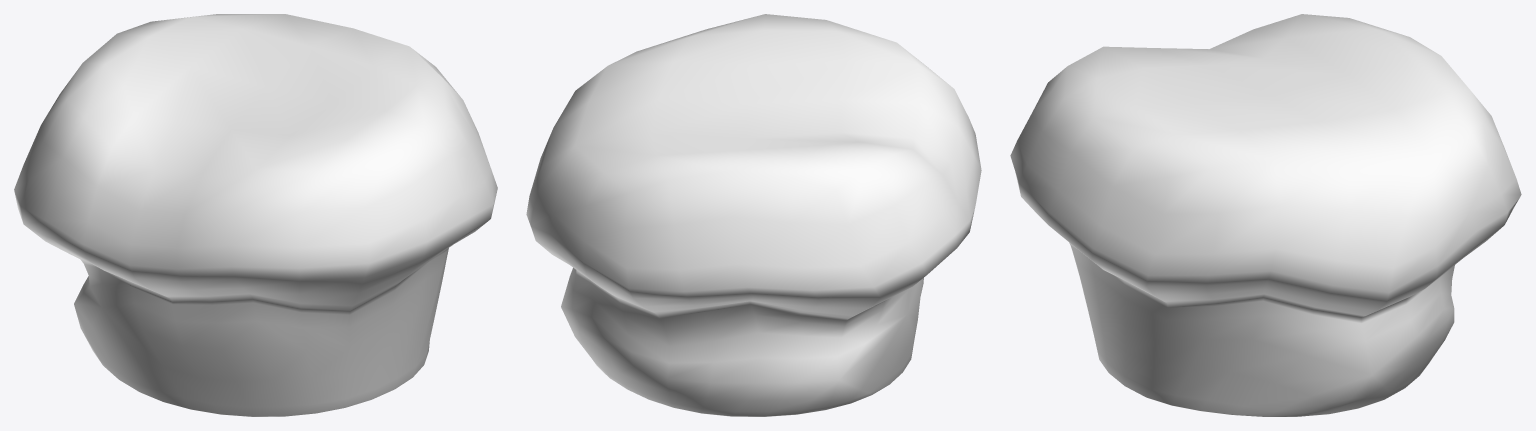
File: Hat_030.glb
The picture shows the model from 3 angles, left to right: view 1: azimuth 30°, elevation 25°; view 2: azimuth 150°, elevation 25°; view 3: azimuth 270°, elevation 25°; orthographic projection. The views are drawn at different scales.
Visible parts, largest first — view 1: Hat_030; view 2: Hat_030; view 3: Hat_030.
Part boxes in pixels (x1,y1,x2,y2): Hat_030: (14,14,497,416); Hat_030: (526,14,981,416); Hat_030: (1010,14,1521,416).
Size of the model in its own units: 0.6493 by 0.4115 by 0.6992.
Materials: 1 (1 with a texture image).
